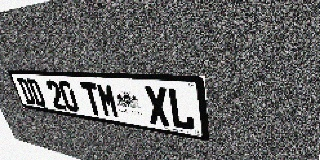0: (57, 80, 80, 112)
2: (45, 80, 67, 110)
D: (26, 79, 47, 107), (16, 78, 37, 105)
L: (167, 87, 195, 131)
M: (95, 83, 121, 119)
T: (80, 82, 104, 116)
X: (144, 86, 171, 127)
